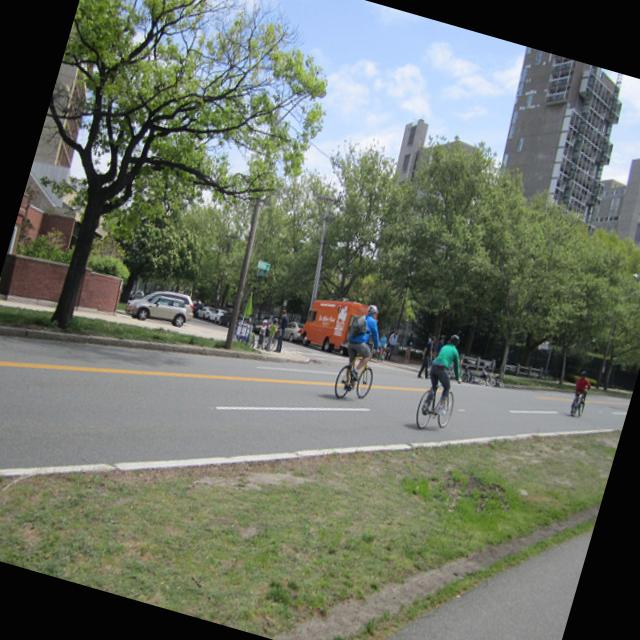Vehicle: (298, 288, 371, 360), (122, 278, 196, 334), (130, 290, 196, 333), (282, 318, 308, 344), (194, 303, 218, 322), (212, 308, 227, 324), (218, 311, 232, 327)
